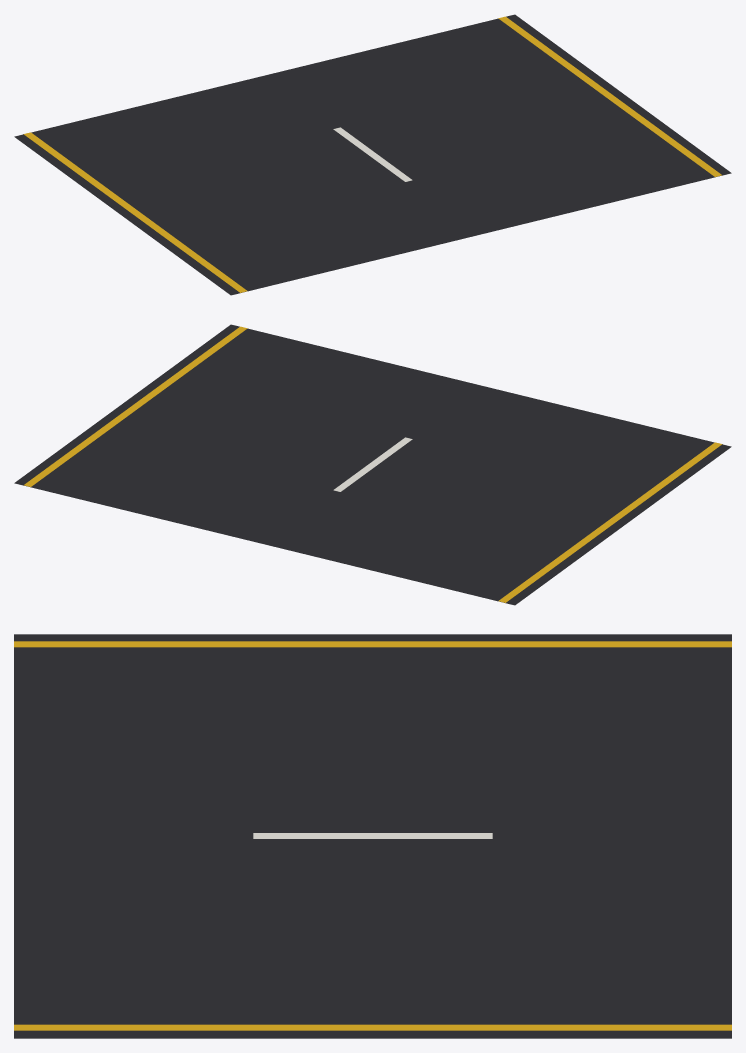
File: road_lane_seg.glb
3 views of the same model, one above another, from view 1: azimuth 30°, elevation 25°; view 2: azimuth 150°, elevation 25°; view 3: azimuth 270°, elevation 25° (orthographic). The views are drawn at different scales.
Visible parts, largest first — view 1: road_lane_seg; view 2: road_lane_seg; view 3: road_lane_seg.
Part boxes in pixels (x1,y1,x2,y2): road_lane_seg: (14,14,731,295); road_lane_seg: (14,324,731,605); road_lane_seg: (14,634,731,1038).
Size of the model in its own units: 8 by 0.004 by 6.
